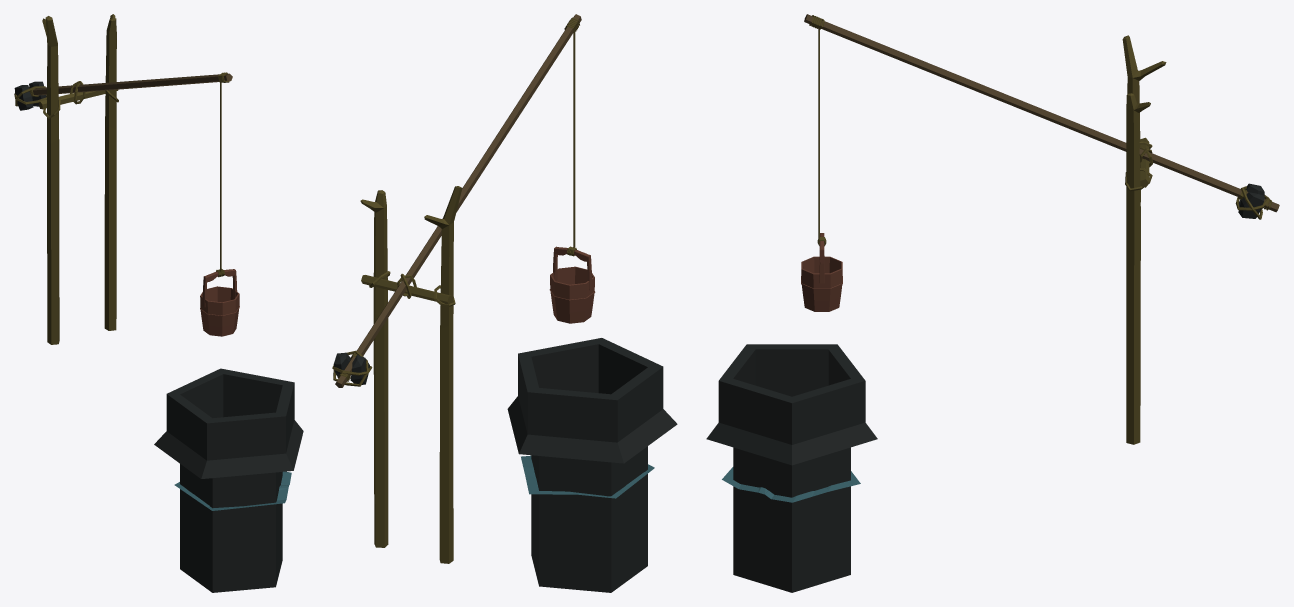
3 views of the same model, side by side, from view 1: azimuth 30°, elevation 25°; view 2: azimuth 150°, elevation 25°; view 3: azimuth 270°, elevation 25° (orthographic). The views are drawn at different scales.
Visible parts, largest first — view 1: jiegao; view 2: jiegao; view 3: jiegao.
Boxes of the visible parts, box(x1,y1,x2,y2) form: jiegao: box(14, 14, 303, 592); jiegao: box(332, 14, 677, 592); jiegao: box(706, 14, 1279, 592).
Bounding box in the file's own units: 133 × 496 × 466.
